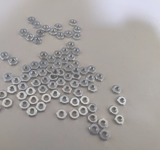nut: (36, 102, 47, 113), (90, 124, 100, 136), (100, 130, 110, 142), (2, 99, 13, 109), (7, 85, 18, 95), (18, 82, 29, 92), (41, 94, 52, 104), (16, 92, 28, 101), (27, 107, 37, 117), (38, 85, 48, 95), (57, 110, 67, 120), (70, 110, 80, 120), (88, 114, 98, 124), (98, 119, 108, 129), (115, 115, 125, 125), (80, 78, 90, 88), (95, 73, 105, 83), (31, 79, 42, 88), (4, 73, 13, 83), (0, 52, 10, 61), (8, 57, 18, 66), (20, 101, 30, 110), (29, 96, 39, 105), (21, 65, 31, 74), (48, 81, 58, 90), (57, 78, 66, 88), (70, 80, 80, 89), (60, 95, 69, 105), (71, 98, 80, 108), (79, 106, 88, 116), (81, 96, 90, 106), (88, 104, 97, 114), (113, 85, 122, 95), (118, 97, 127, 107), (71, 79, 80, 89), (87, 65, 97, 74), (88, 84, 98, 93), (39, 60, 48, 69), (41, 76, 50, 85), (47, 55, 56, 64), (72, 47, 81, 56), (110, 106, 119, 115), (74, 89, 83, 98), (64, 73, 73, 82), (80, 67, 89, 76), (87, 74, 96, 83), (26, 88, 36, 96), (21, 74, 31, 82), (51, 91, 61, 99), (72, 72, 82, 80), (13, 77, 22, 85), (39, 52, 48, 60), (60, 56, 68, 65), (67, 54, 76, 62), (64, 64, 73, 72), (19, 29, 28, 37), (34, 36, 42, 45), (49, 28, 58, 36), (65, 30, 73, 39), (69, 19, 78, 27), (73, 33, 82, 41), (63, 86, 72, 94), (72, 67, 81, 75), (29, 71, 39, 78), (39, 69, 47, 77), (31, 62, 39, 70), (47, 65, 55, 73), (26, 34, 34, 42), (55, 23, 63, 31), (74, 25, 82, 33), (0, 91, 7, 100), (49, 74, 58, 81), (54, 62, 63, 69), (61, 48, 70, 55), (66, 42, 75, 49), (72, 61, 81, 68), (55, 51, 62, 59), (52, 69, 60, 76), (58, 69, 65, 77), (28, 17, 36, 24), (34, 22, 42, 29), (43, 25, 50, 32), (58, 32, 64, 40)
